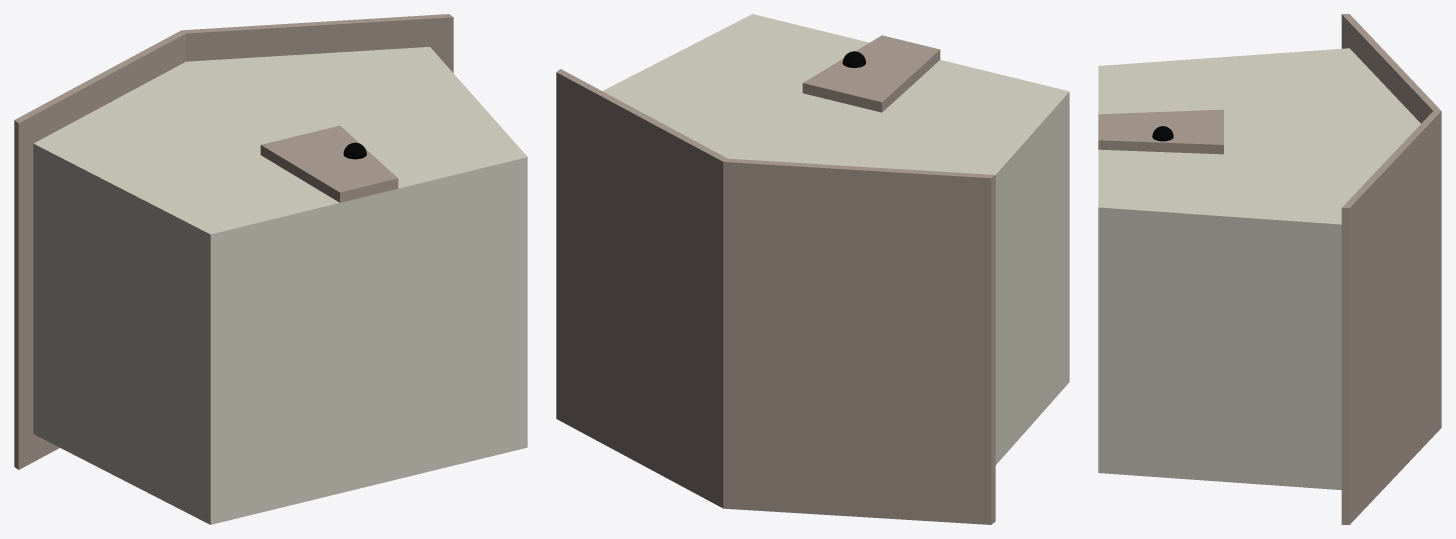
File: basic_house.fbx
3 views of the same model, side by side, from view 1: azimuth 30°, elevation 25°; view 2: azimuth 150°, elevation 25°; view 3: azimuth 270°, elevation 25° (orthographic). The views are drawn at different scales.
Visible parts, largest first — view 1: basic_house; view 2: basic_house; view 3: basic_house.
Part boxes in pixels (x1=…): basic_house: x1=14, y1=14, x2=527, y2=524; basic_house: x1=556, y1=14, x2=1069, y2=524; basic_house: x1=1098, y1=14, x2=1441, y2=524.
Bounding box in the file's own units: 72.76 × 55.42 × 54.37.
